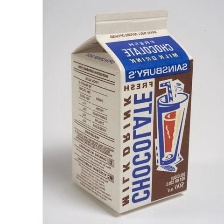carton: (66, 7, 196, 214)
